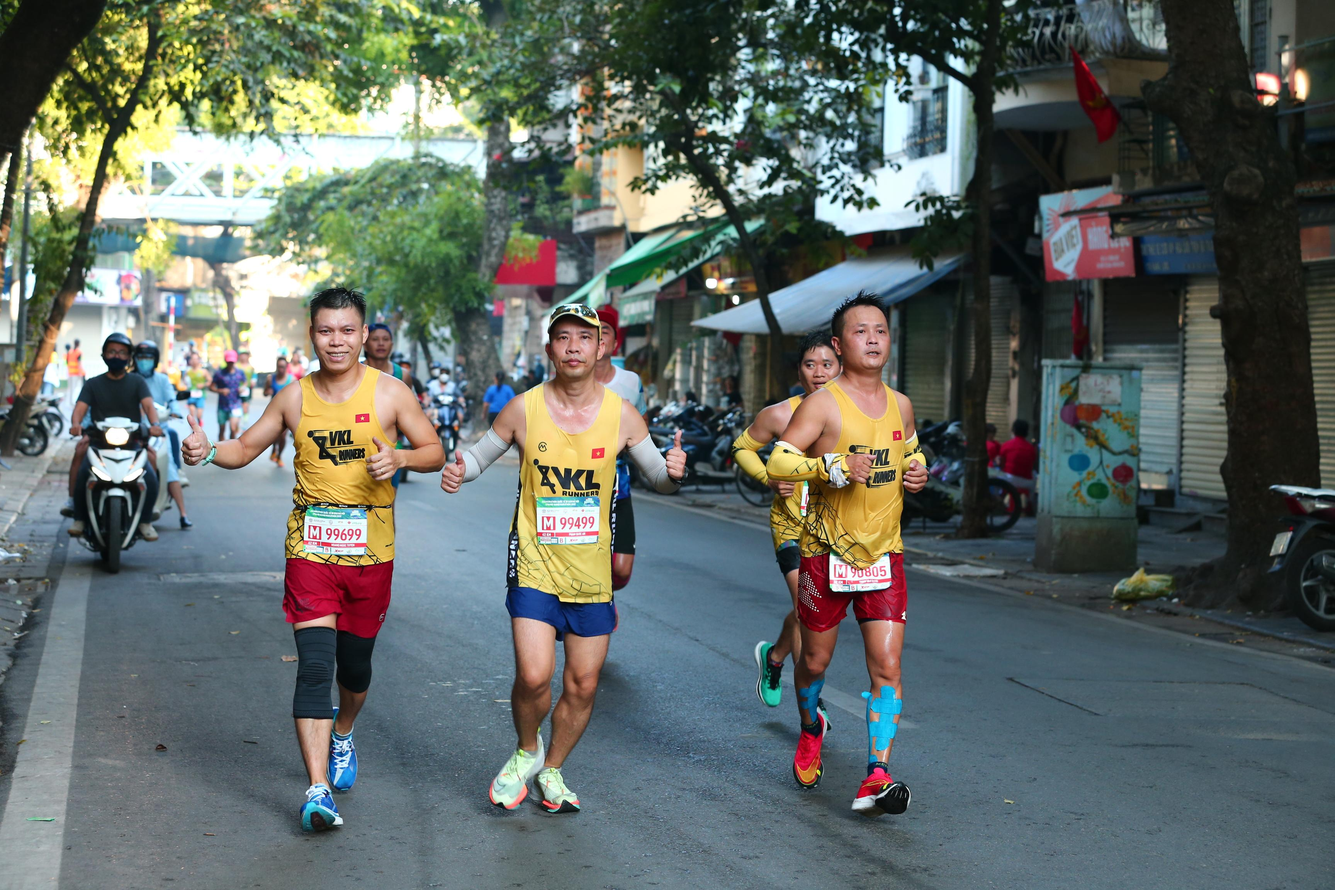bib: (304, 507, 367, 555), (536, 498, 599, 545), (829, 550, 891, 593)
